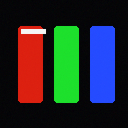3 line_h: (21, 29, 45, 33)
